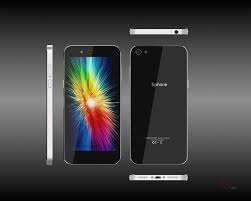bphone: (127, 43, 190, 166), (60, 44, 123, 167)
